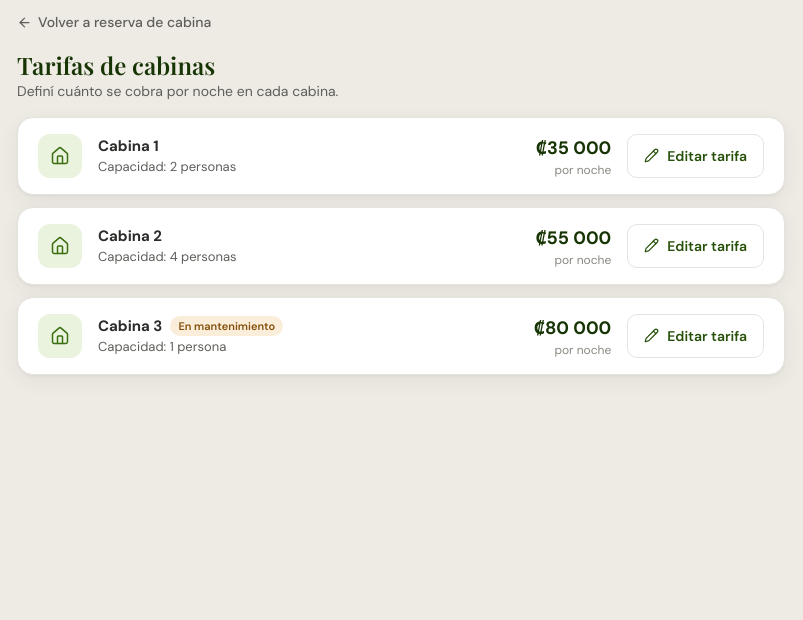
it: HU-128 pantalla Tarifas de cabinas › solo deja escribir dígitos (descarta letras, puntos y comas)
This screenshot has width=803, height=620.
Step 1. Click the button "Editar tarifa" next to "₡55 000" → (696,246), box [627, 224, 764, 268]
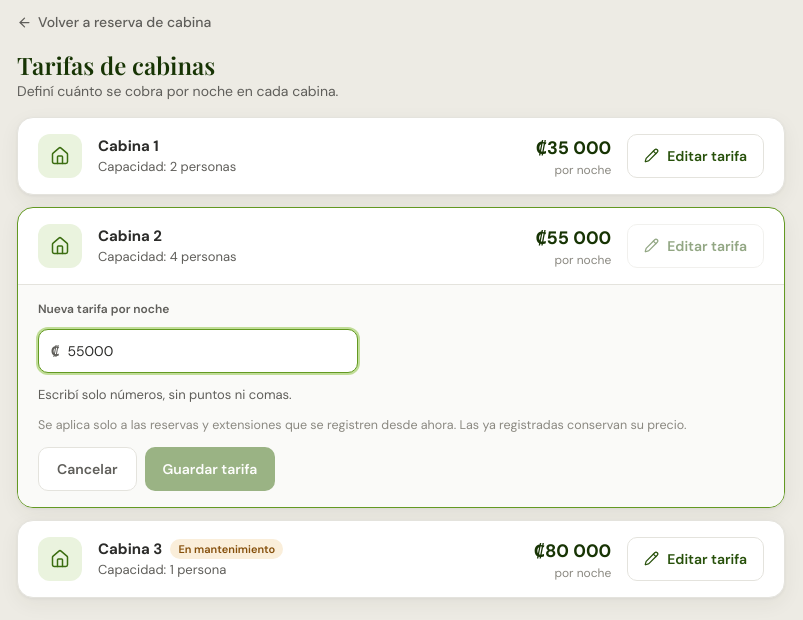
Step 2. Replace the text in the field labelled "Nueva tarifa por noche" with "6a0.0,00" → (206,350), box [67, 340, 345, 360]
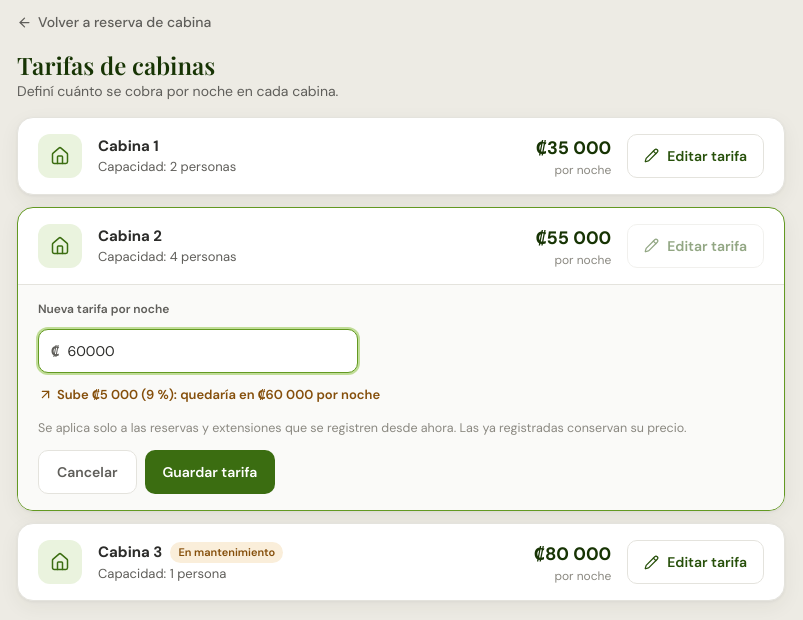
Result: the field labelled "Nueva tarifa por noche" holds "60000" at [67, 340, 345, 360]
